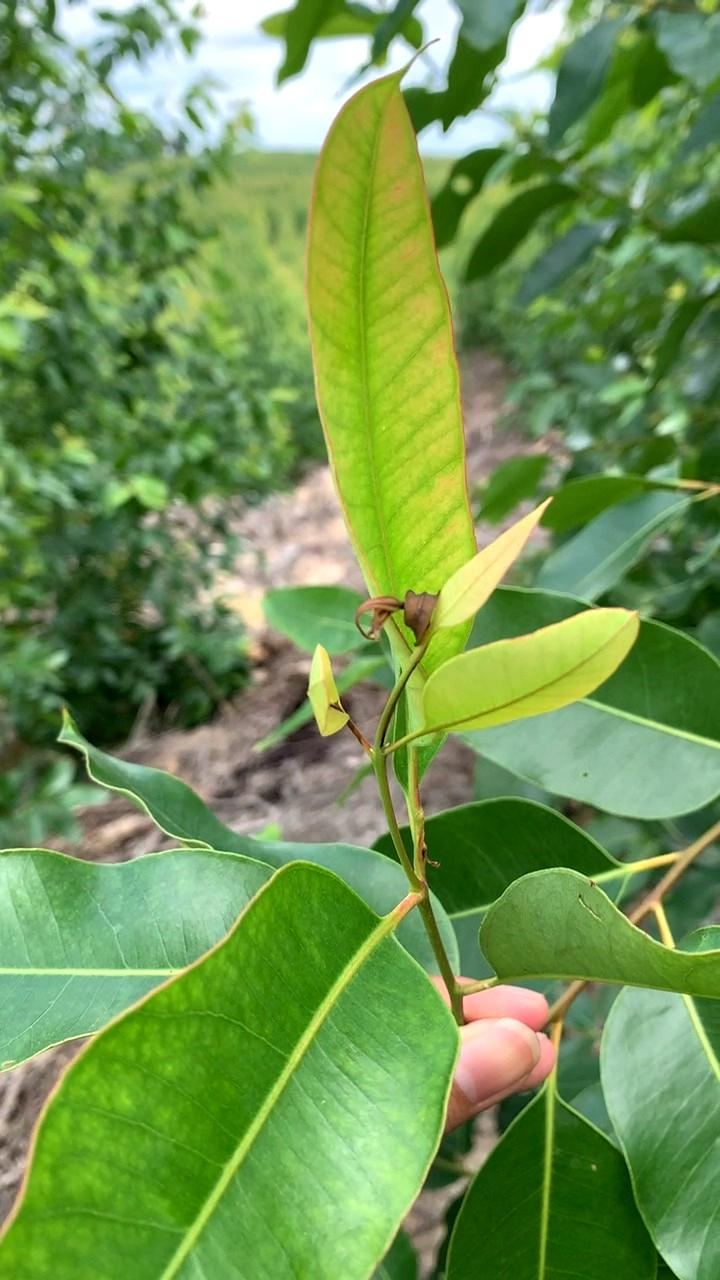Helopeltis-Withered Sprout: (352, 586, 442, 650)
